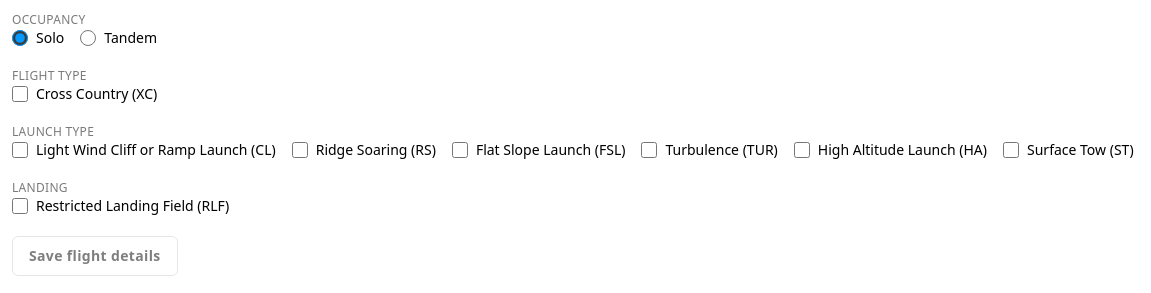
Test case: activates flight details save only while values differ
This screenshot has width=1151, height=293.
Expected: the button "Save flight details" is disabled, [12,236,178,276]
Click the checkbox labelled "Restricted Landing Field (RLF)": [20, 206] box [12,198,28,214]
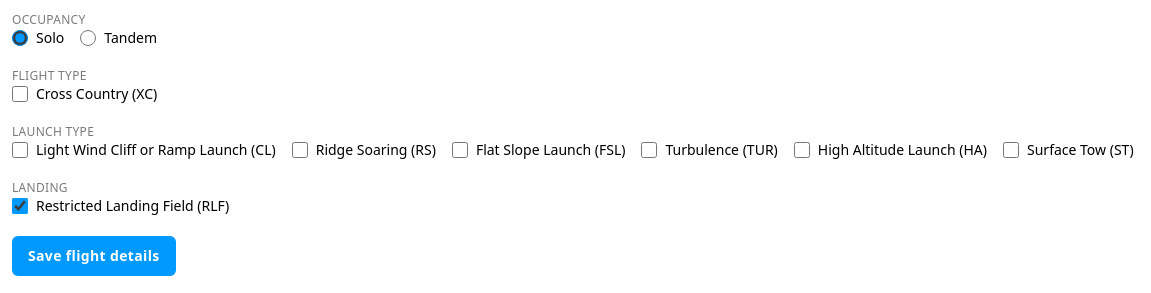
Now the button "Save flight details" is enabled, box [12,236,176,276]
Click the checkbox labelled "Restricted Landing Field (RLF)": [20, 206] box [12,198,28,214]
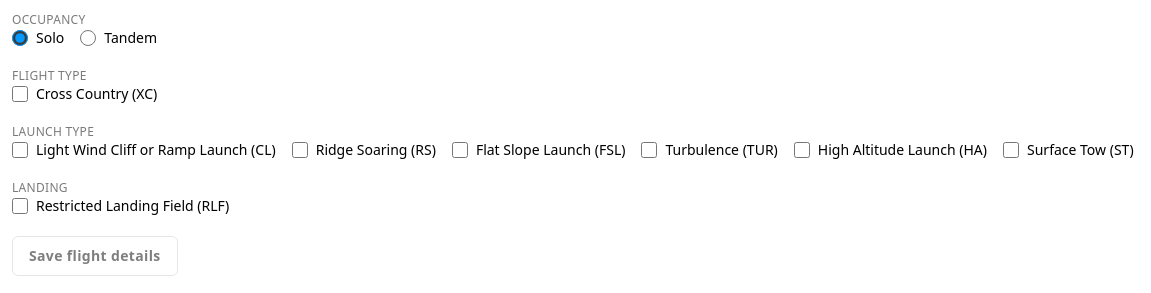
Now the button "Save flight details" is disabled, box [12,236,178,276]
